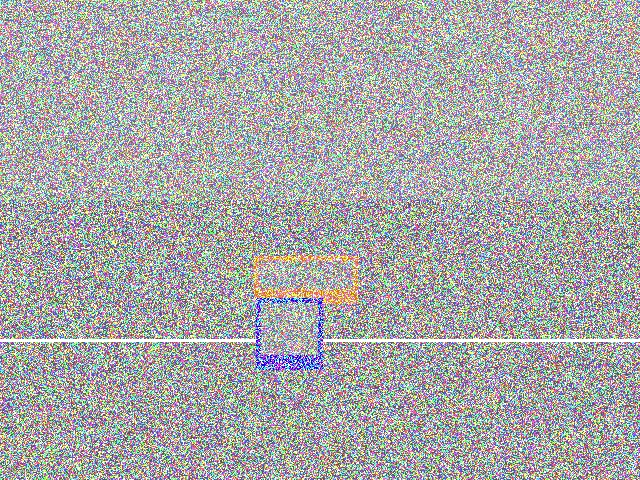motorcycle: (487, 123, 640, 221), (113, 211, 213, 336)
